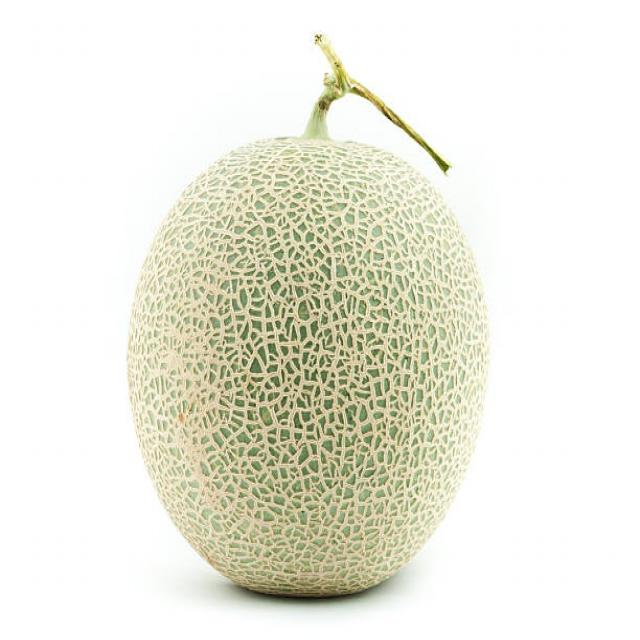melon: (114, 108, 493, 596)
